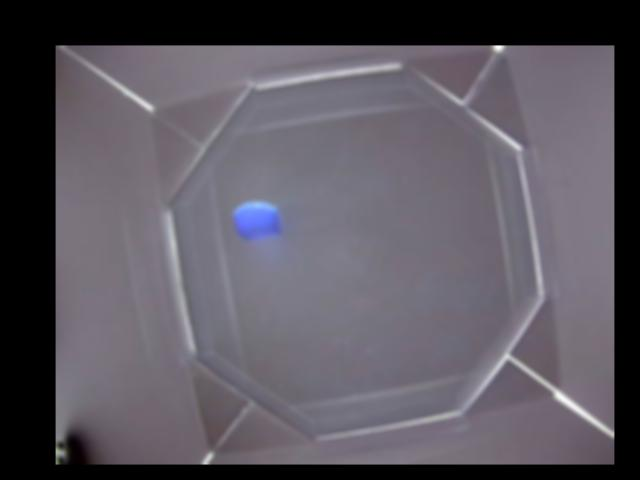Potato: (233, 199, 280, 240)
